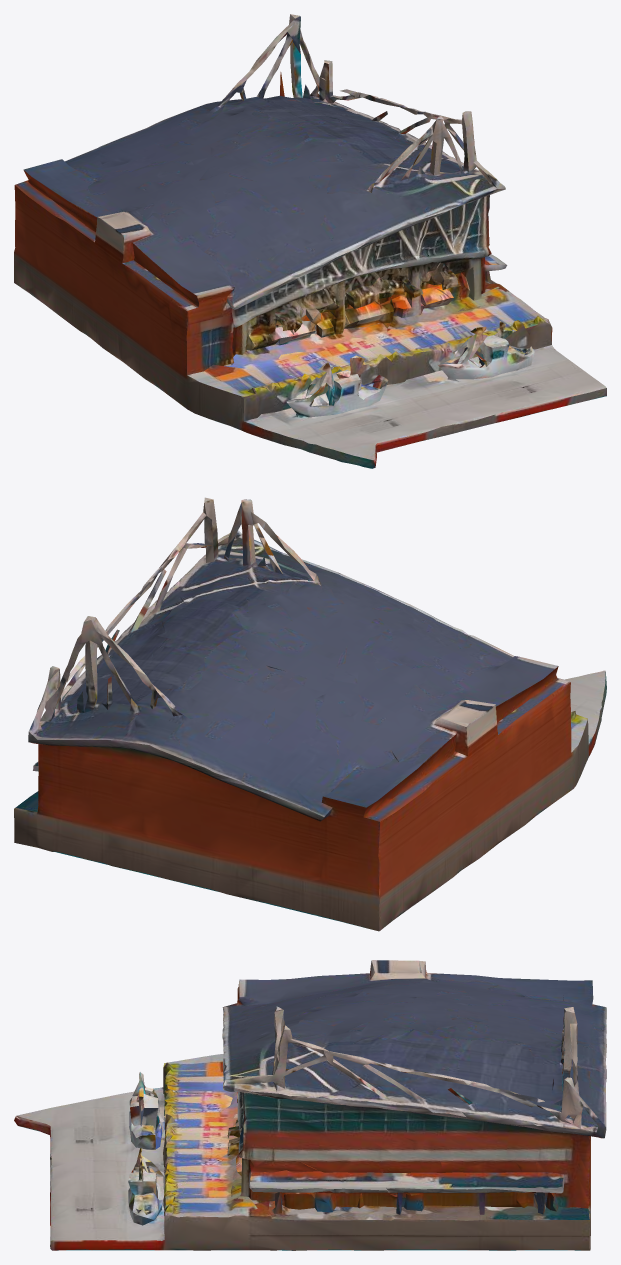
Rendered from karato-market.glb.
The picture shows the model from 3 angles, top to bottom: view 1: azimuth 30°, elevation 25°; view 2: azimuth 150°, elevation 25°; view 3: azimuth 270°, elevation 25°; orthographic projection. The views are drawn at different scales.
Visible parts, largest first — view 1: logan-textured.obj; view 2: logan-textured.obj; view 3: logan-textured.obj.
Boxes of the visible parts, left/top/right/bottom form: logan-textured.obj: left=14, top=14, right=606, bottom=468; logan-textured.obj: left=14, top=497, right=606, bottom=931; logan-textured.obj: left=14, top=960, right=606, bottom=1250.
Bounding box in the file's own units: 0.6558 × 0.4004 × 1.
1 material, 1 textured.
